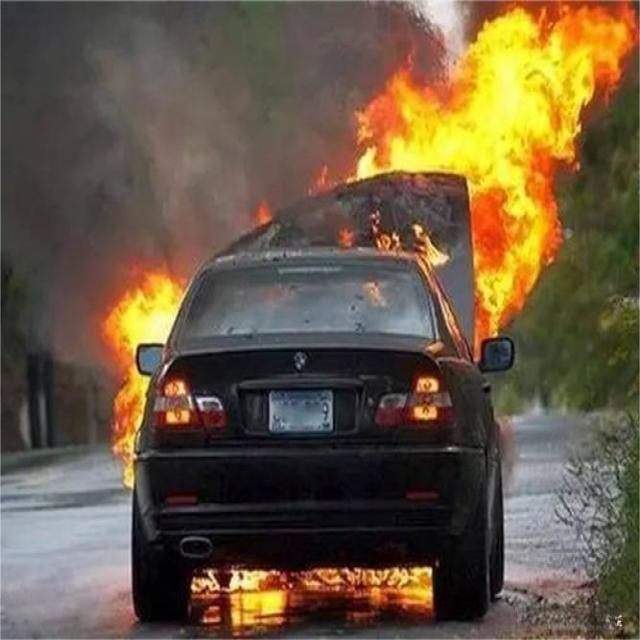Fire: (354, 1, 640, 177), (467, 178, 561, 347), (102, 268, 184, 346), (108, 358, 148, 486)
Smoke: (0, 0, 352, 264)
